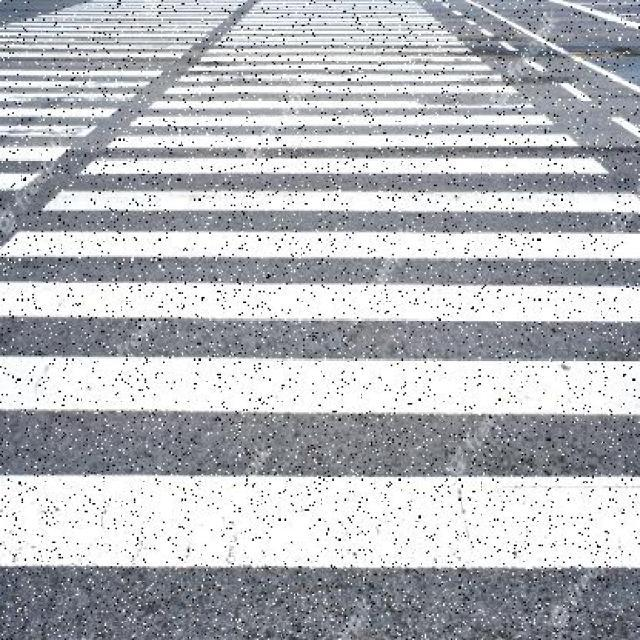crosswalk: (0, 1, 640, 640), (0, 1, 246, 220)
